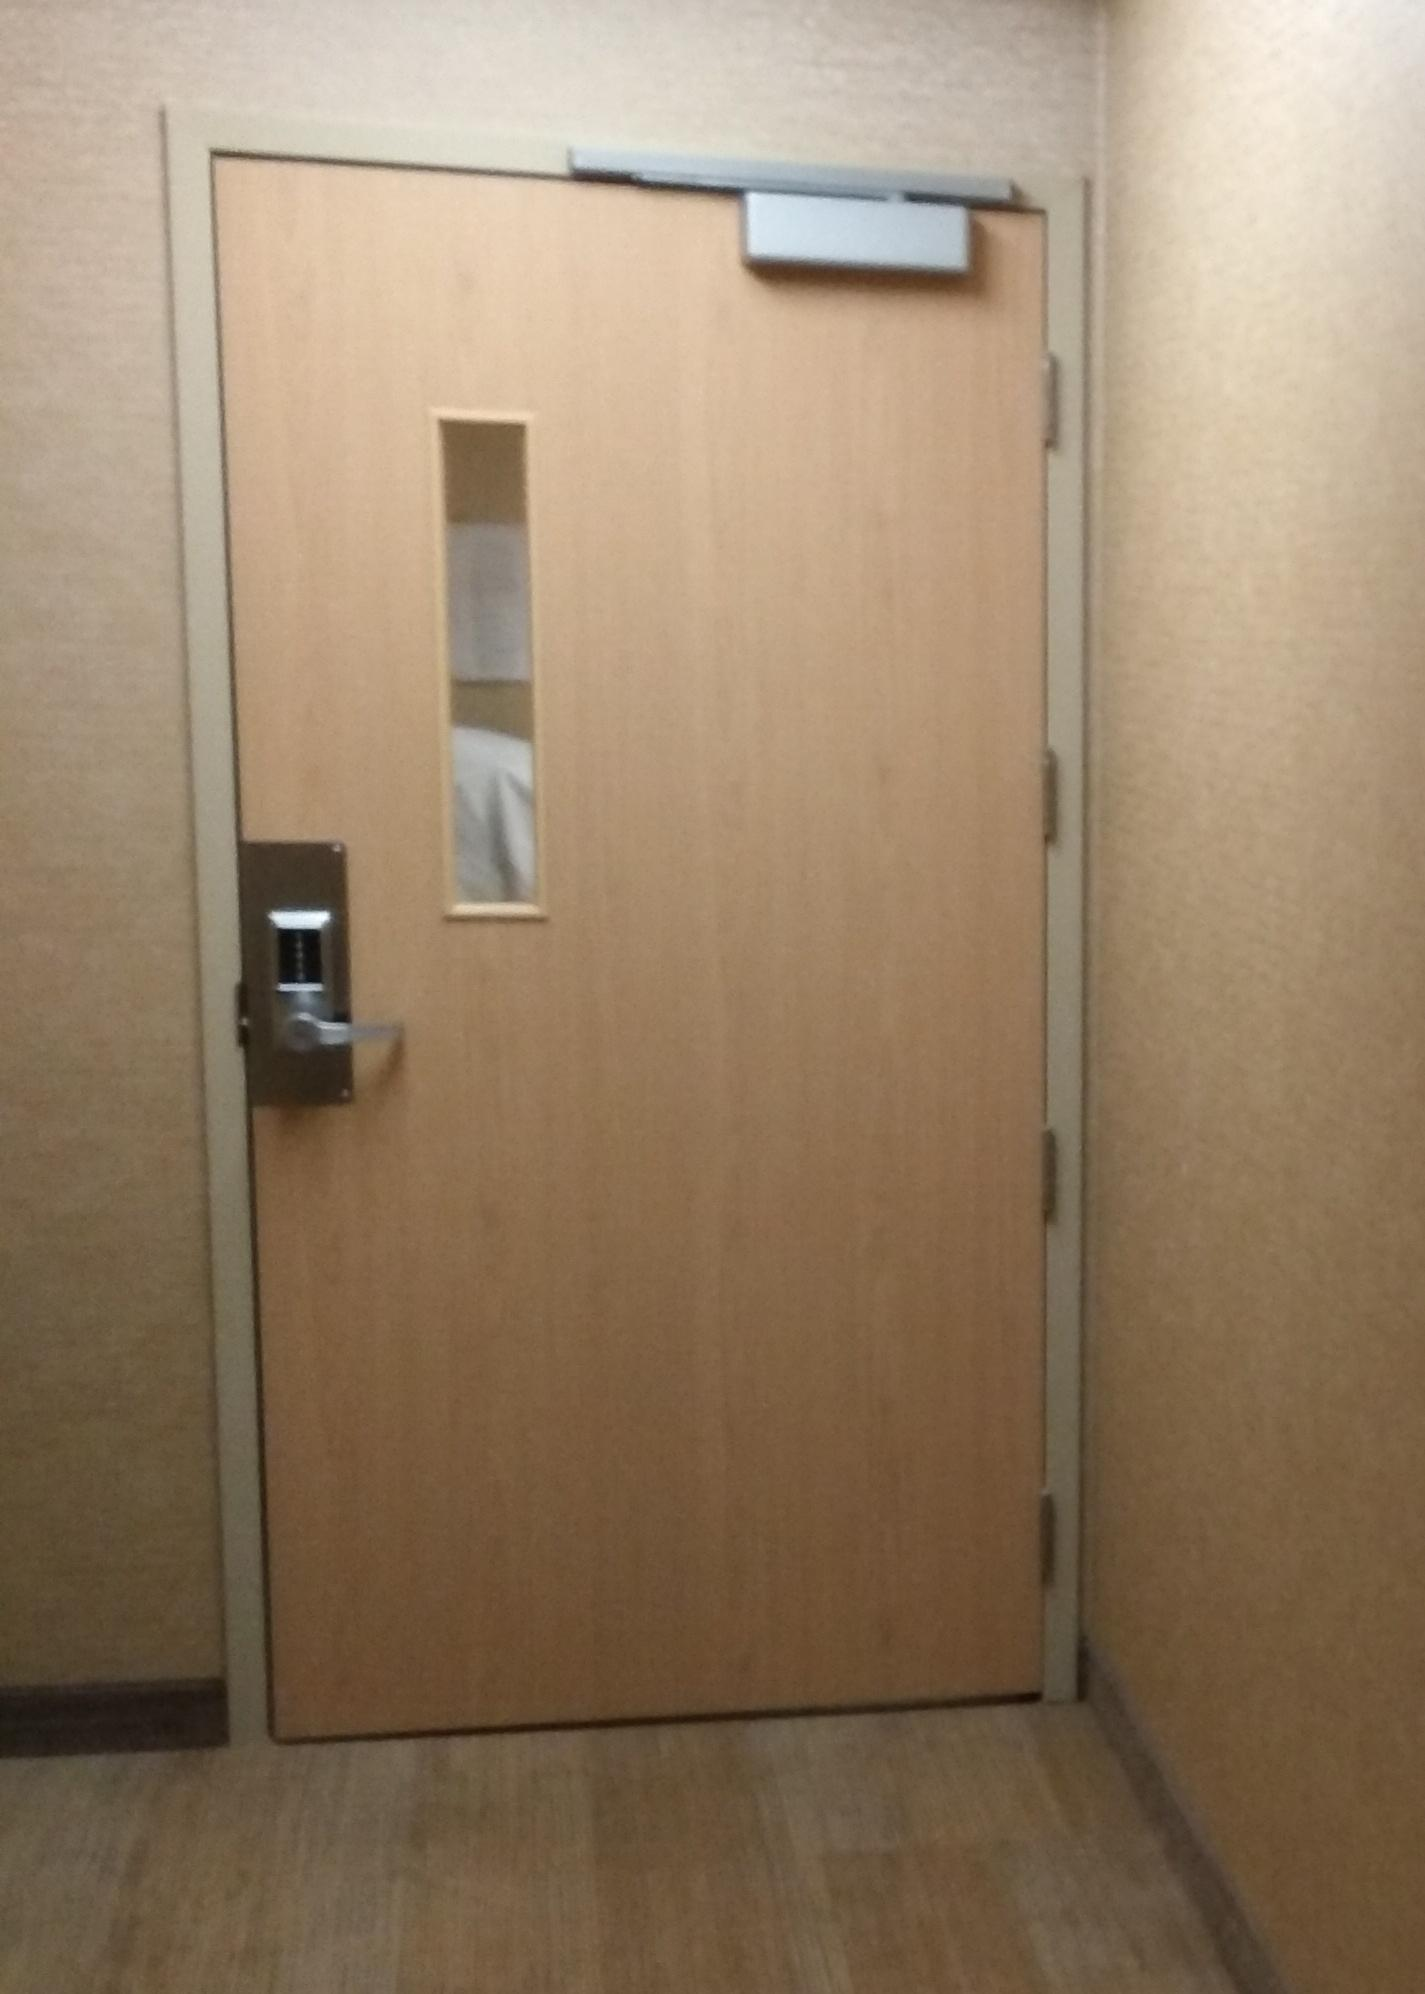door: (170, 113, 1090, 1716)
